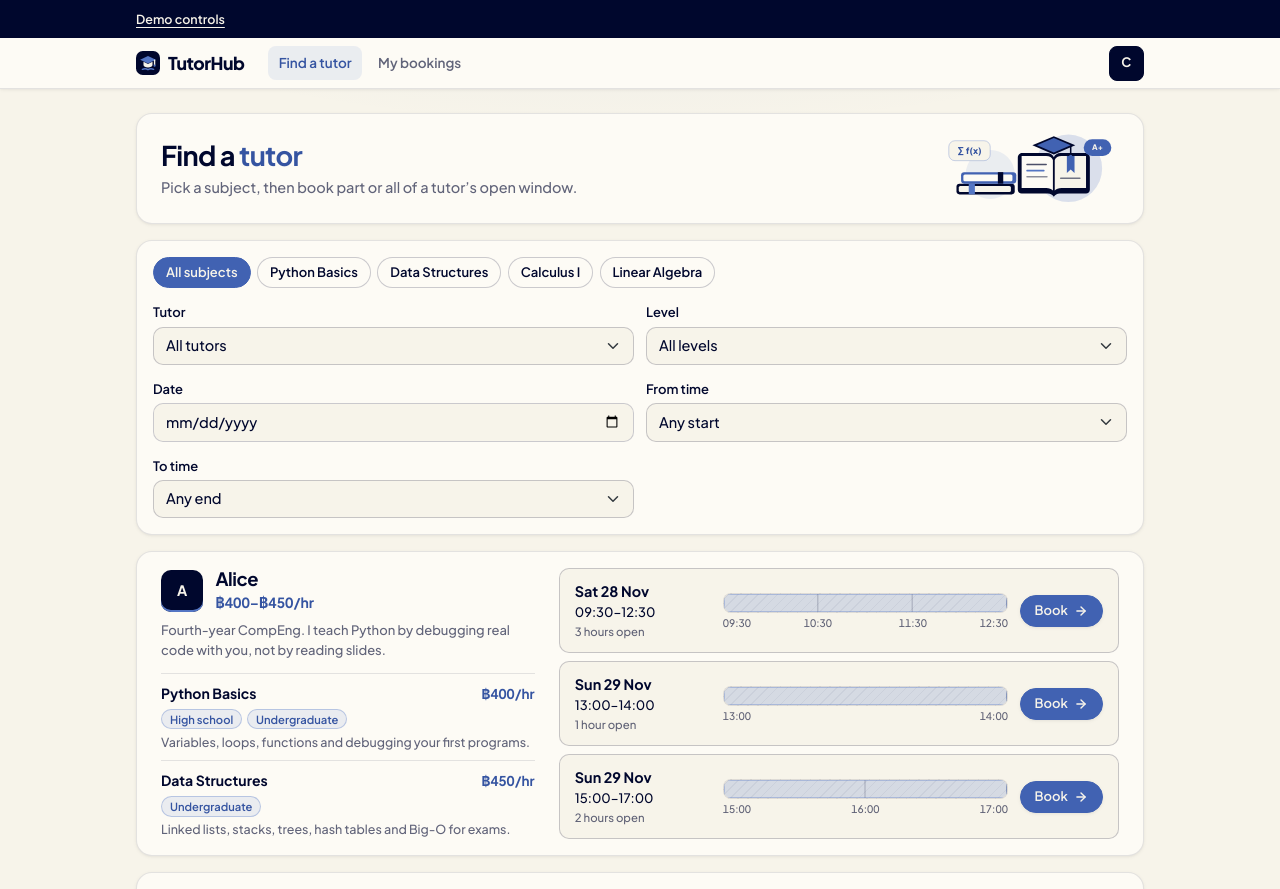
Test: account menu › opens from the profile icon, shows who is signed in, and signs out
This screenshot has width=1280, height=889.
Expected: the button "Sign out" is not shown
Click the button named "Account". click: click(1126, 63)
box: top-left (1109, 46), bottom-right (1144, 81)
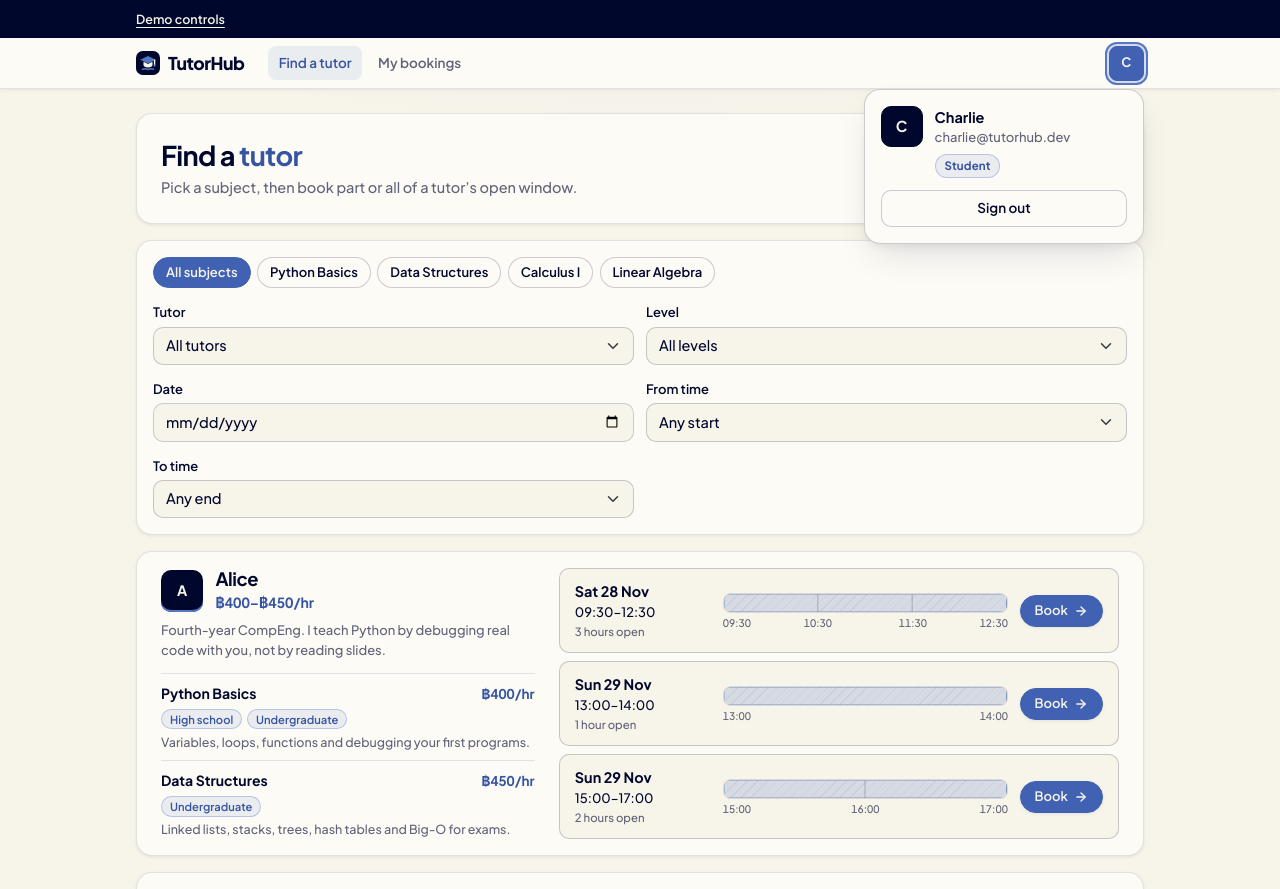
Result: the button named "Account" is expanded at top-left (1109, 46), bottom-right (1144, 81)
Click the text "charlie@tutorhub.dev". click: click(1002, 138)
box: top-left (935, 128), bottom-right (1070, 148)
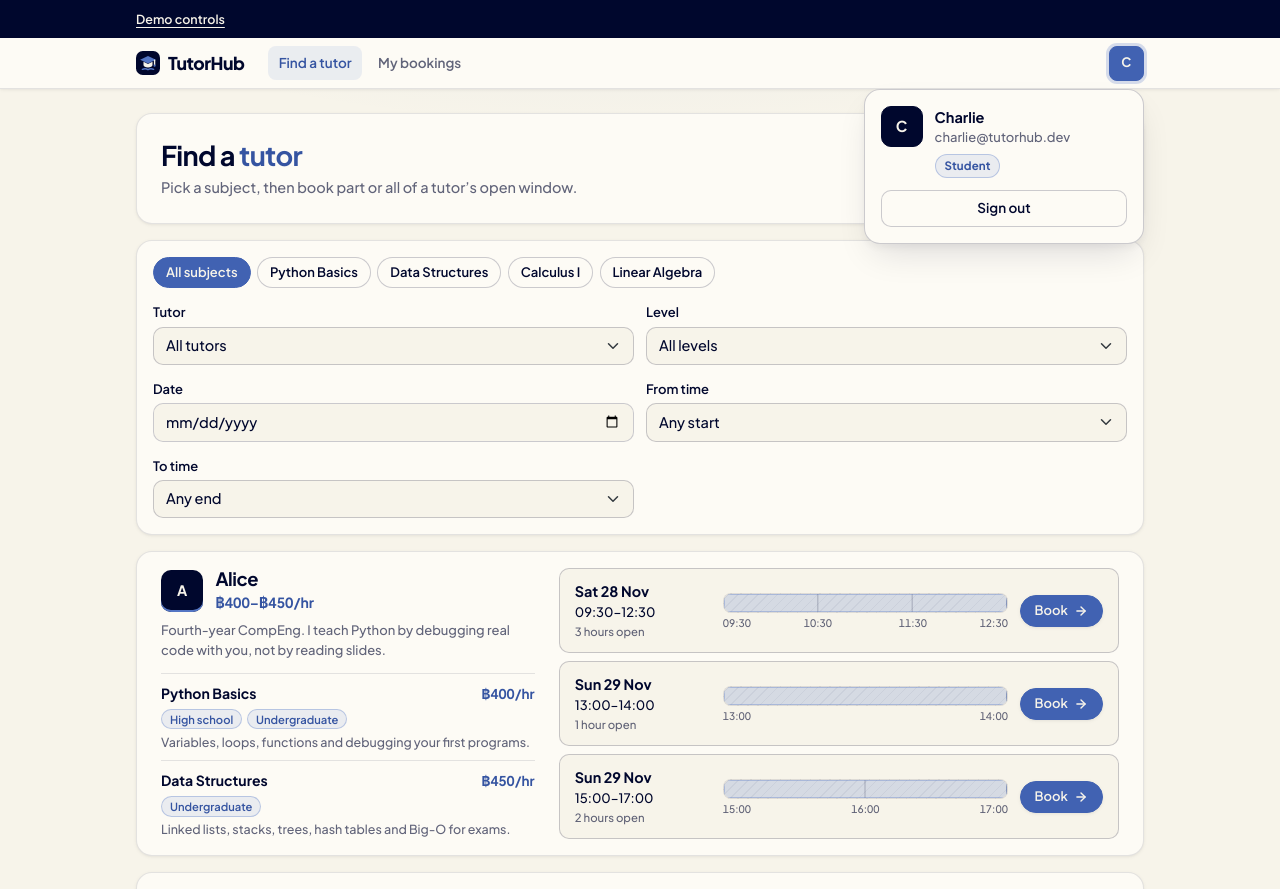
Result: the button "Sign out" is shown at top-left (881, 190), bottom-right (1127, 226)
Press Escape
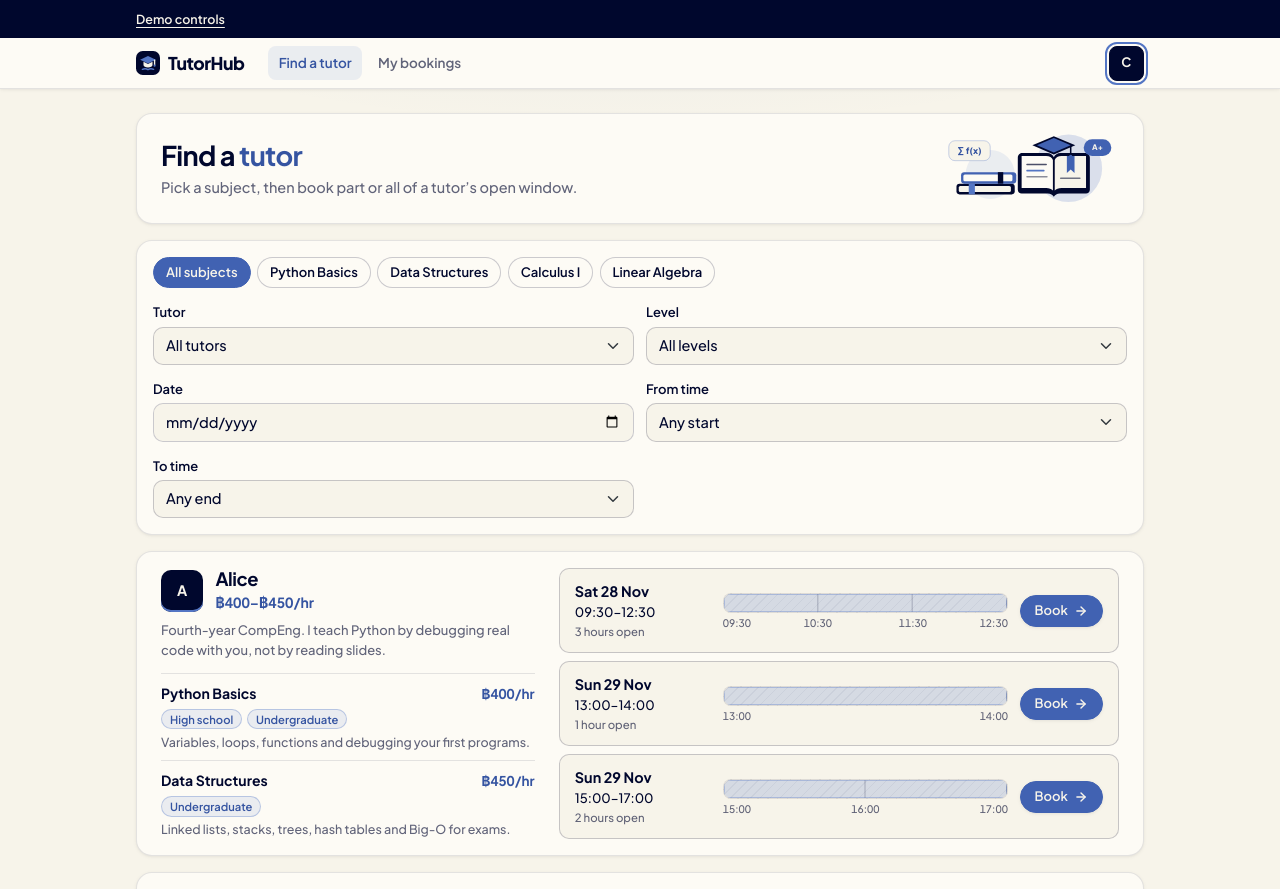
Result: the button "Sign out" is gone
Click the button named "Account". click: click(1126, 63)
box: top-left (1109, 46), bottom-right (1144, 81)
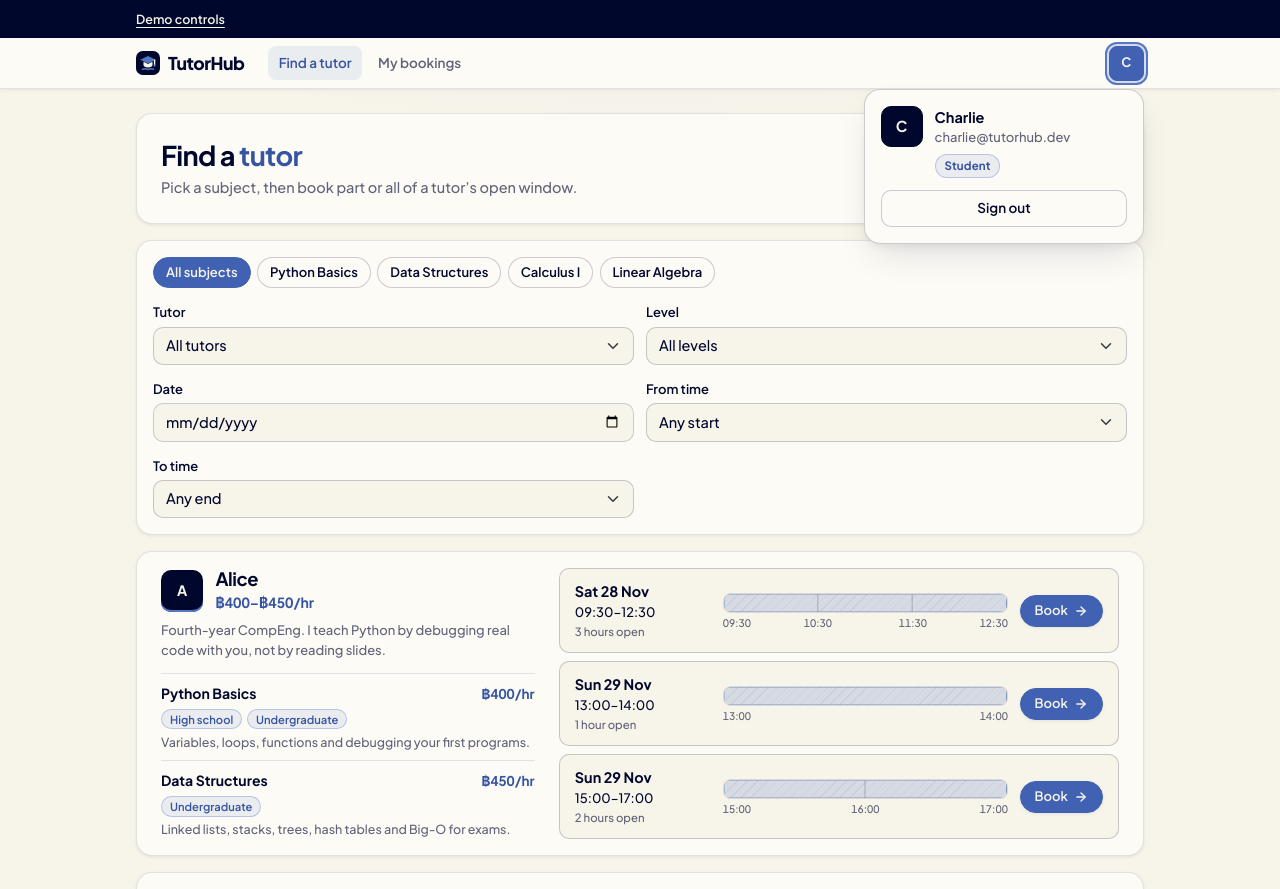
Click the button "Sign out". click: click(1004, 208)
box: top-left (881, 190), bottom-right (1127, 226)
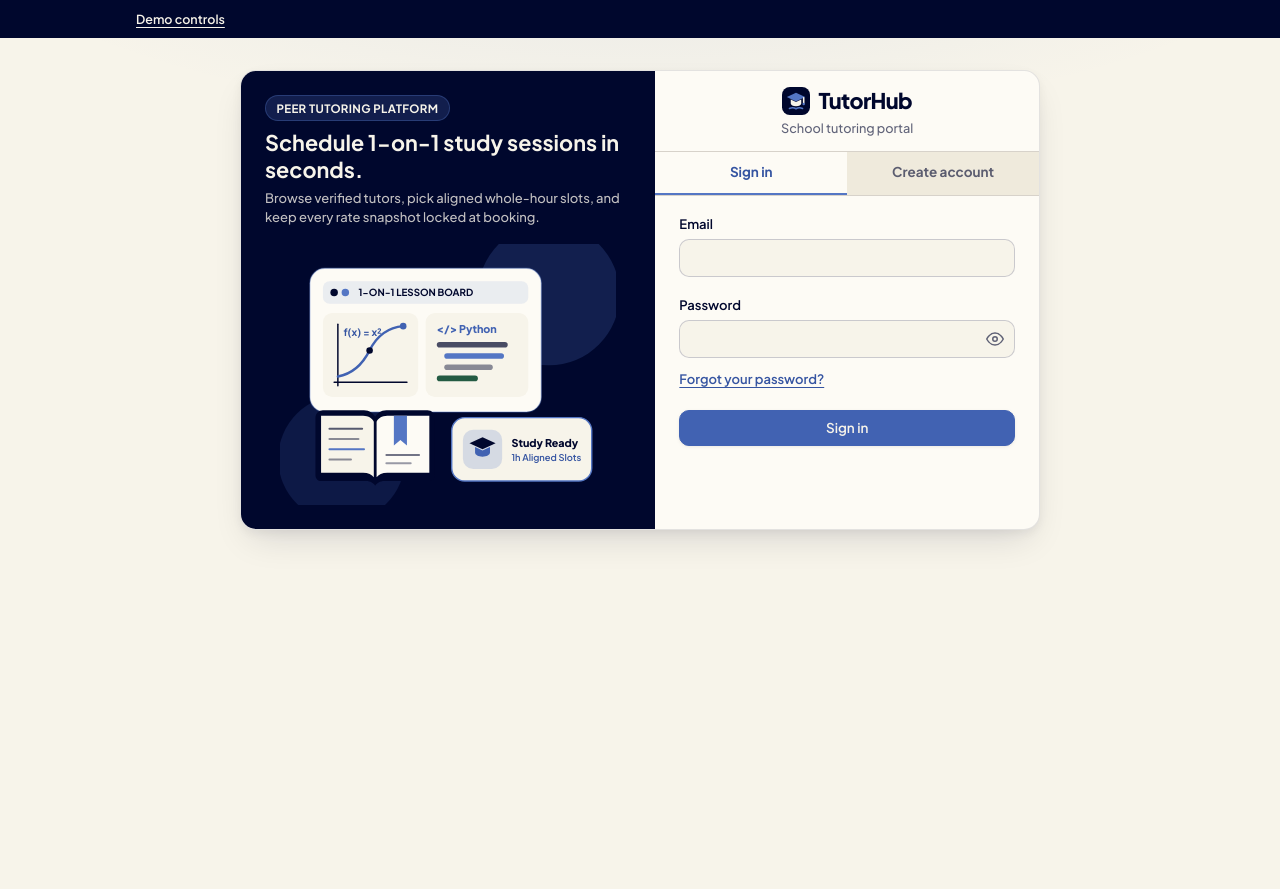
Result: the button "Sign in" is shown at top-left (679, 410), bottom-right (1015, 446)
